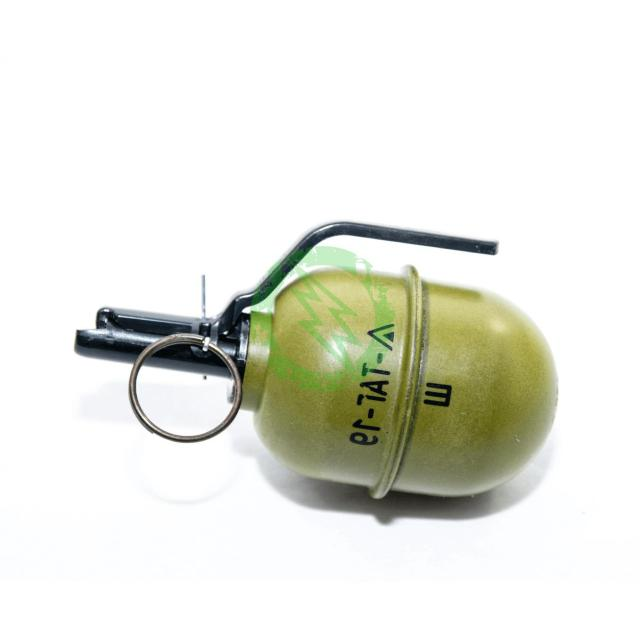grenade: (75, 220, 558, 499)
